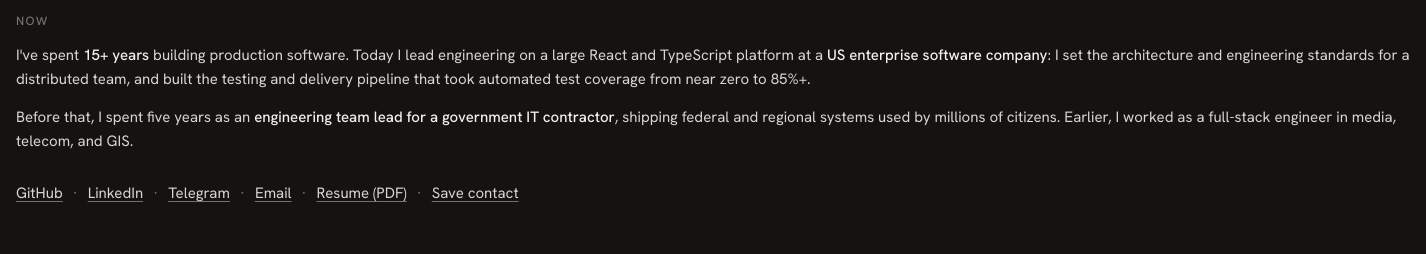
Test: Now Component › copies the email address to the clipboard
Click the button "Email": {"x": 273, "y": 193} [255,181,292,205]
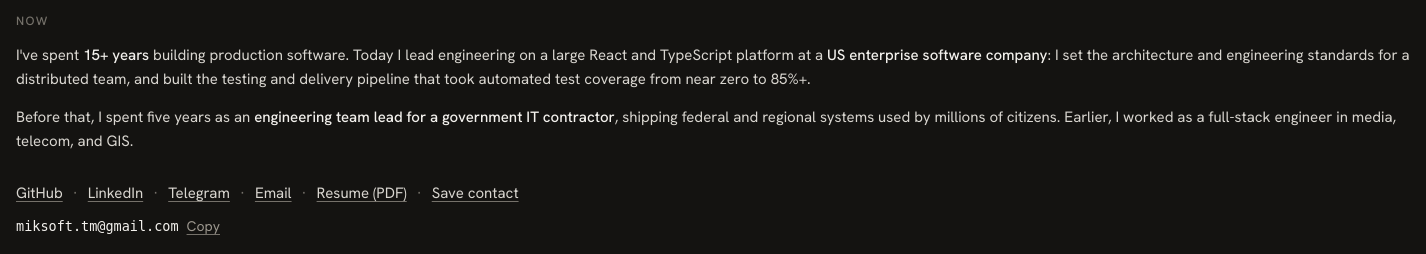
Click the button "Copy": {"x": 203, "y": 226} [187,215,220,238]
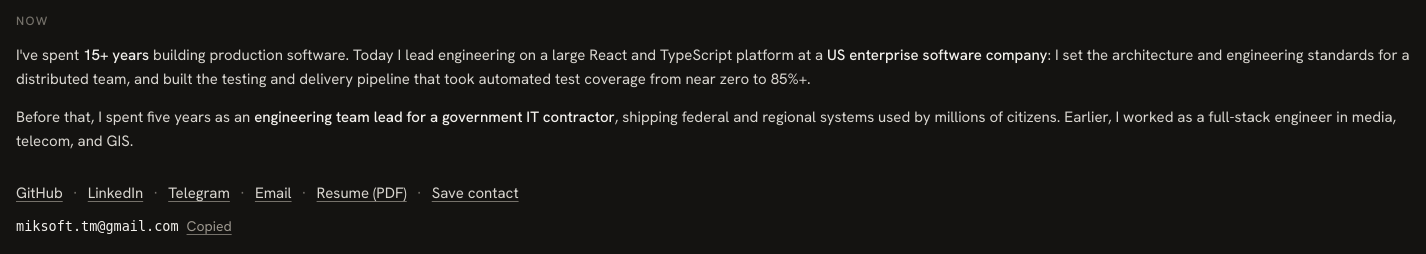
Expected: the button "Copied" is shown, [187,215,232,238]
